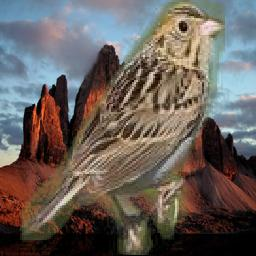Sparrow: (21, 0, 226, 255)
